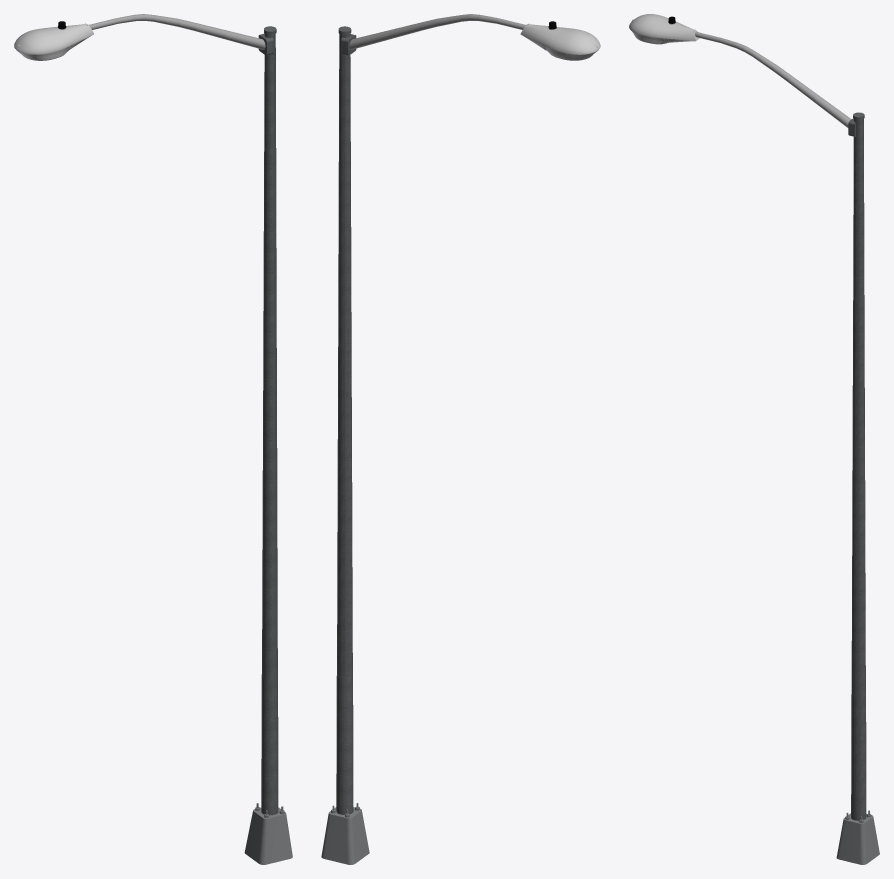
The model's file is street-transformed.glb.
3 renders of one model, left to right at view 1: azimuth 30°, elevation 25°; view 2: azimuth 150°, elevation 25°; view 3: azimuth 330°, elevation 25°, orthographic. The views are drawn at different scales.
Parts seen in each view (by area): view 1: Material2 (×3); view 2: Material2 (×3); view 3: Material2 (×3).
Part boxes in pixels (left/top/right/bottom): Material2 (×3): left=14, top=14, right=292, bottom=864; Material2 (×3): left=321, top=14, right=600, bottom=864; Material2 (×3): left=629, top=14, right=879, bottom=864.
Bounding box in the file's own units: 132 × 415 × 18.93.
10 materials, 10 textured.
